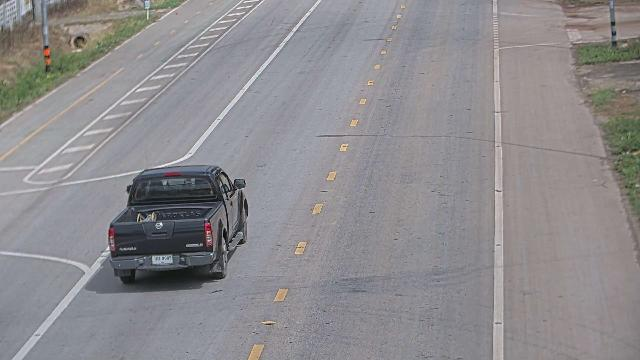pickup-truck: (107, 164, 249, 284)
